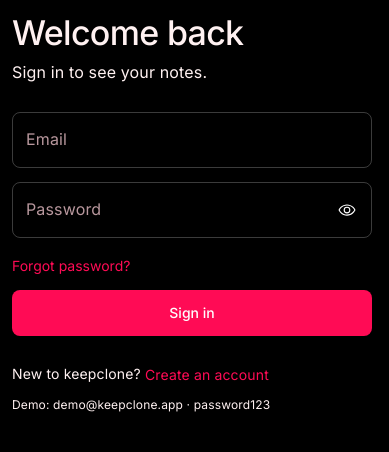
Test case: AuthForm (login) › rejects a malformed email
Type "not-an-email" into the field labelled "Email".
click(192, 140); type("not-an-email")  # box [12,112,372,168]
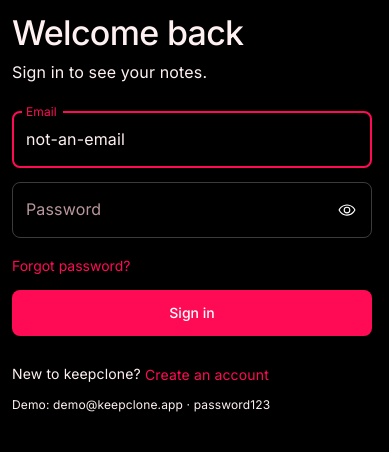
Type "password123" into the password field labelled "Password".
click(168, 210); type("password123")  # box [12,182,325,238]
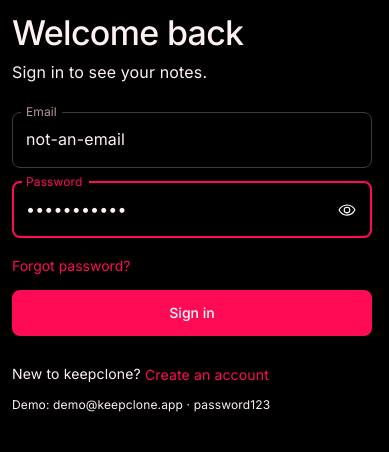
Click the button "Sign in".
click(192, 313)  # box [12,290,372,336]
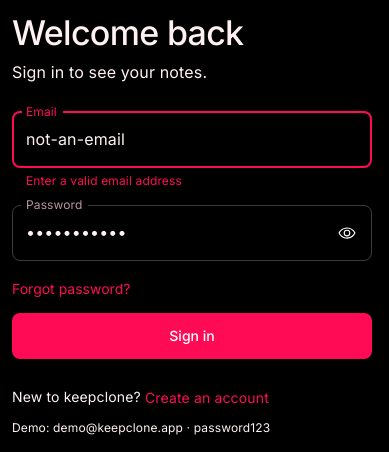
Now the text "Enter a valid email address" is shown, box [26,173,182,188]
